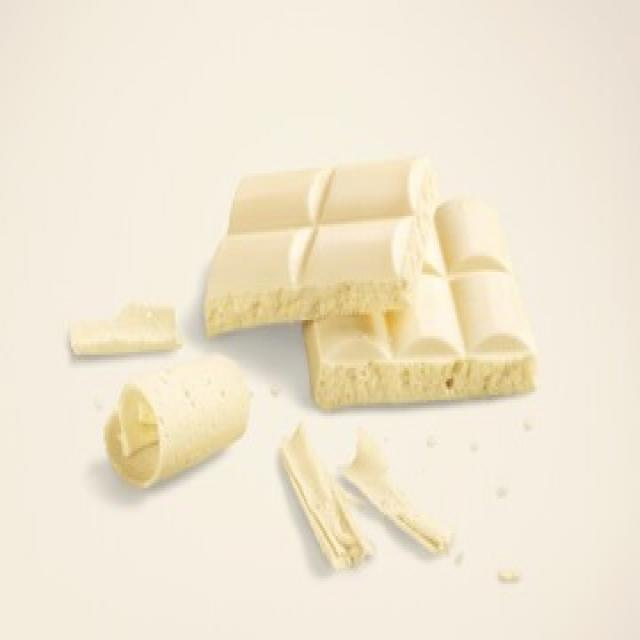Chocolate: (304, 199, 538, 413), (204, 157, 451, 337)
